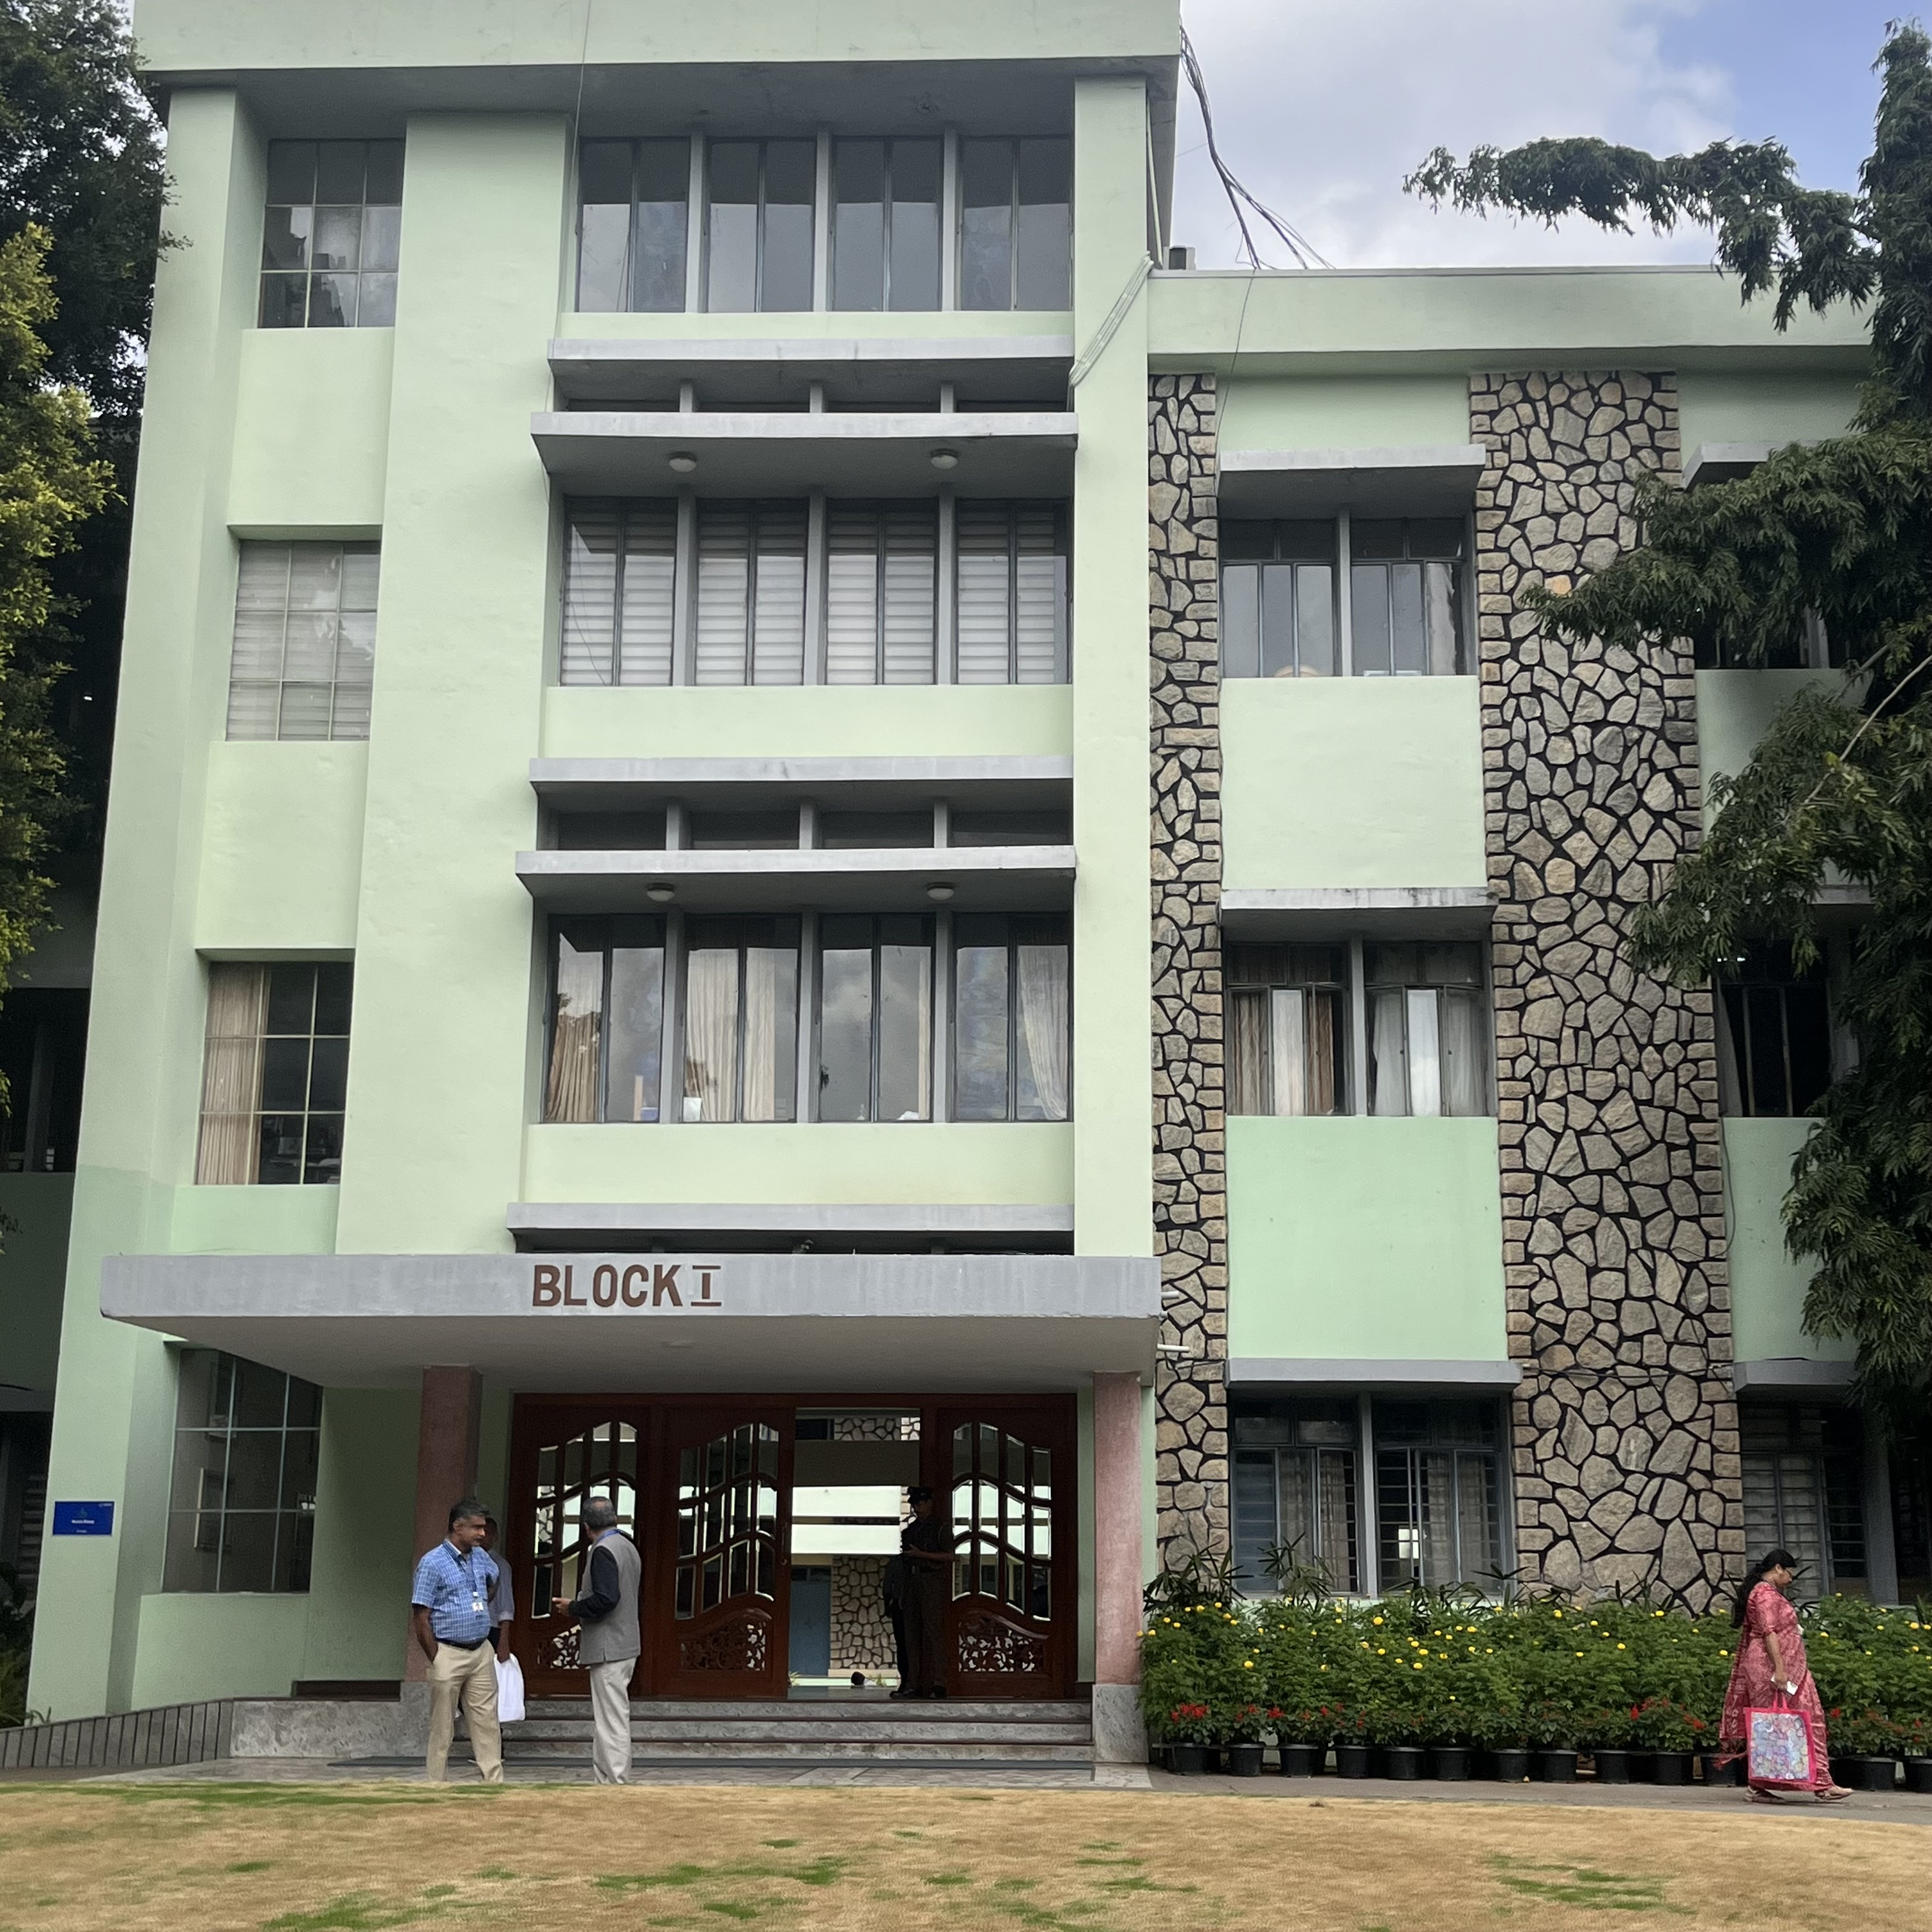Block 1: (122, 12, 1753, 1672)
